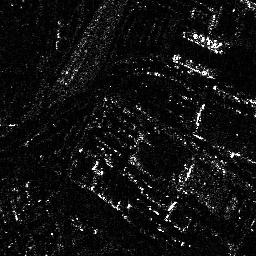ship: (171, 54, 221, 79), (183, 27, 229, 54)
